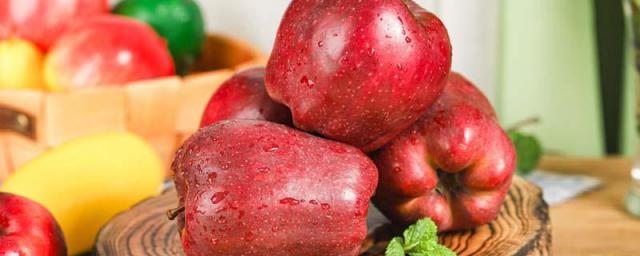apple: (169, 120, 378, 256), (262, 1, 452, 150), (374, 72, 517, 232)
